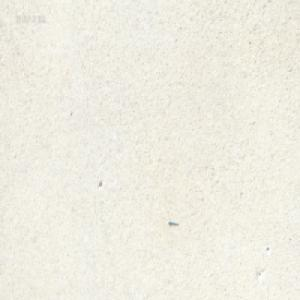Nail: (168, 219, 179, 227)
